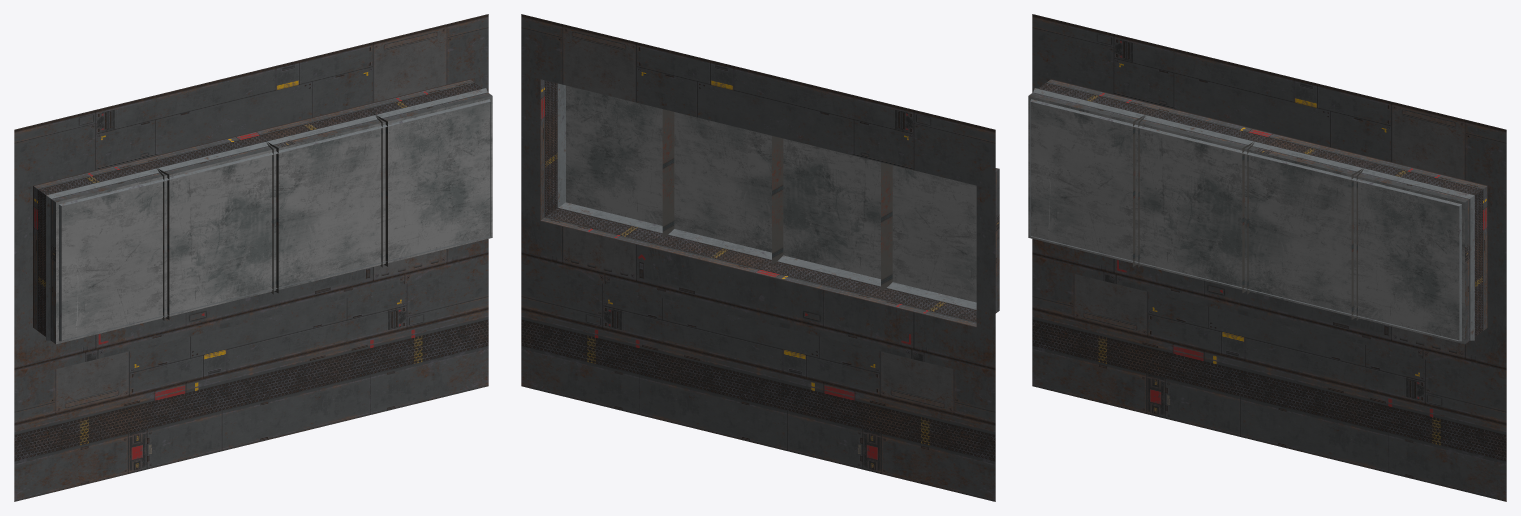
The model's file is ARC0910143.fbx.
3 views of the same model, side by side, from view 1: azimuth 30°, elevation 25°; view 2: azimuth 150°, elevation 25°; view 3: azimuth 330°, elevation 25° (orthographic).
Parts seen in each view (by area): view 1: smARC0910143; view 2: smARC0910143; view 3: smARC0910143.
Boxes of the visible parts, <box> form: smARC0910143: <box>14,14,492,501</box>; smARC0910143: <box>521,14,999,501</box>; smARC0910143: <box>1028,14,1506,501</box>.
Size of the model in its own units: 400 by 300 by 36.3.
Materials: 1 (1 with a texture image).
